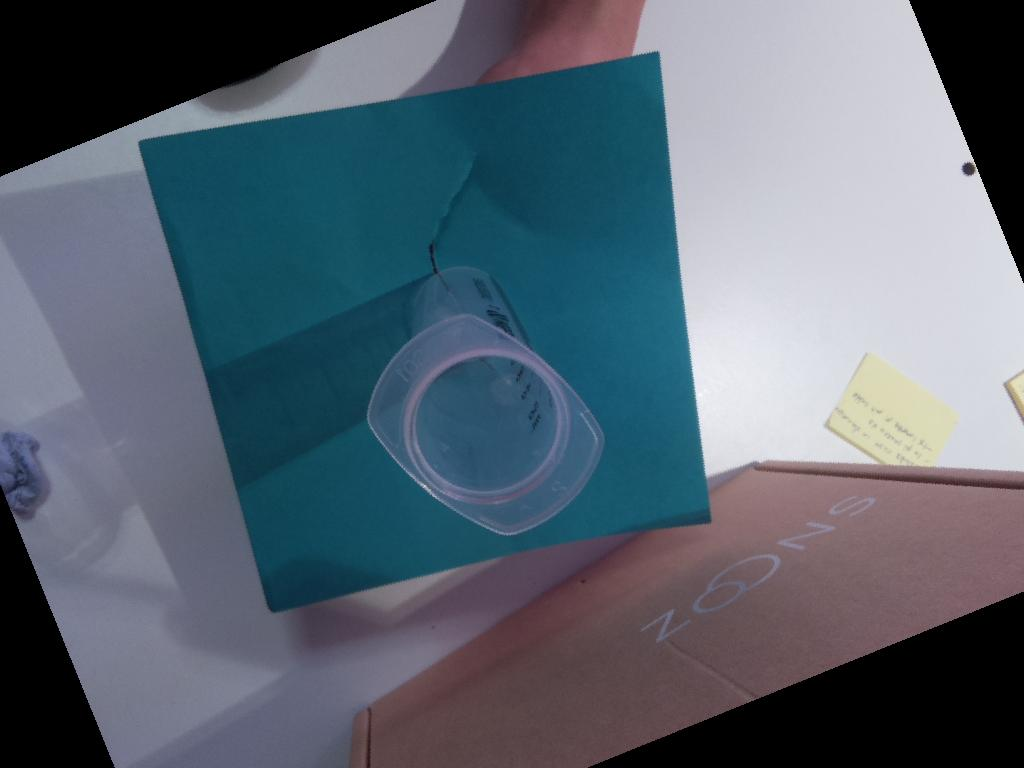clean: (368, 310, 608, 538)
